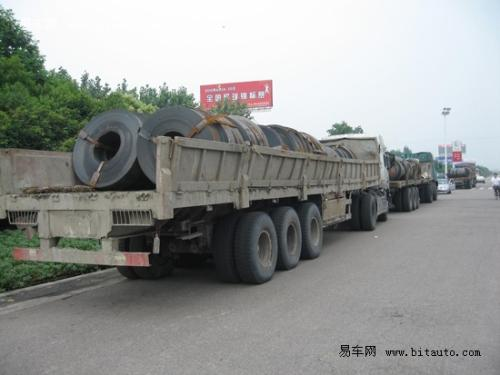chaozhai: (18, 102, 392, 303)
